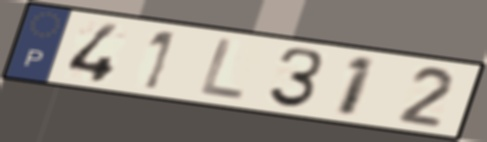1: (338, 54, 377, 121), (142, 29, 179, 92)
2: (395, 65, 457, 130)
3: (266, 47, 327, 111)
4: (62, 20, 122, 84)
L: (196, 35, 248, 104)
